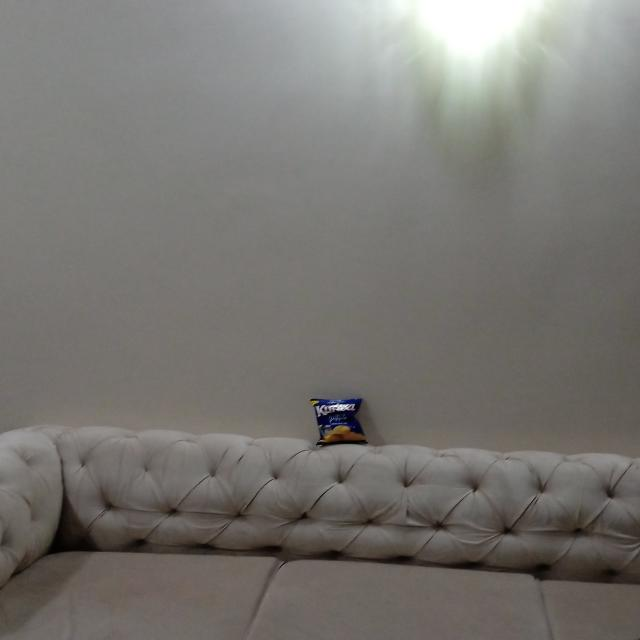Plastic: (308, 395, 370, 445)
